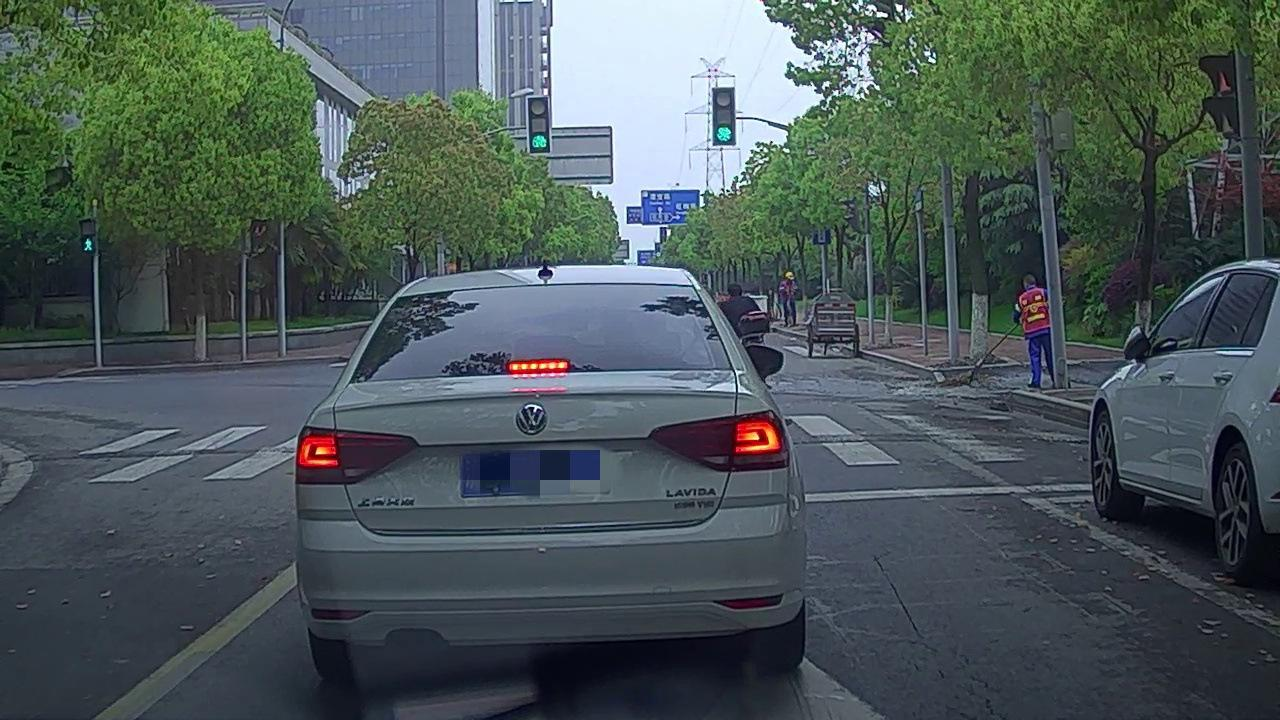traffic_light: (713, 90, 736, 144), (529, 95, 550, 153)
